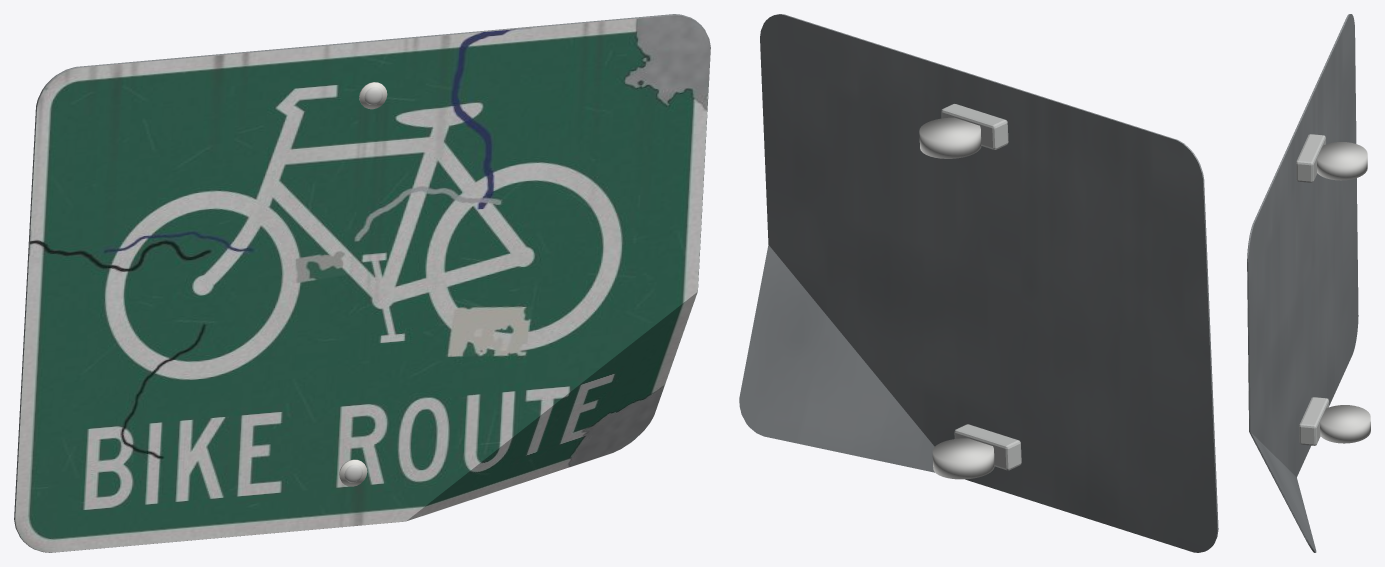
Rendered from bikeGuide-v1-battered.glb.
3 renders of one model, left to right at view 1: azimuth 30°, elevation 25°; view 2: azimuth 150°, elevation 25°; view 3: azimuth 270°, elevation 25°, orthographic. The views are drawn at different scales.
Parts seen in each view (by area): view 1: bikeGuide-v1-battered; view 2: bikeGuide-v1-battered; view 3: bikeGuide-v1-battered.
Part boxes in pixels (x1,y1,x2,y2): bikeGuide-v1-battered: [14, 14, 710, 552]; bikeGuide-v1-battered: [739, 14, 1218, 552]; bikeGuide-v1-battered: [1247, 14, 1370, 552].
Bounding box in the file's own units: 0.6151 × 0.473 × 0.1481.
1 material, 1 textured.
